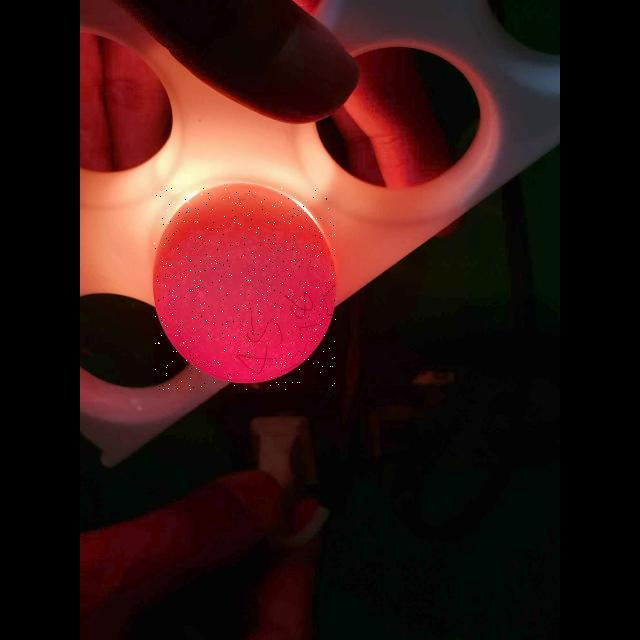Infertile: (154, 188, 336, 390)
